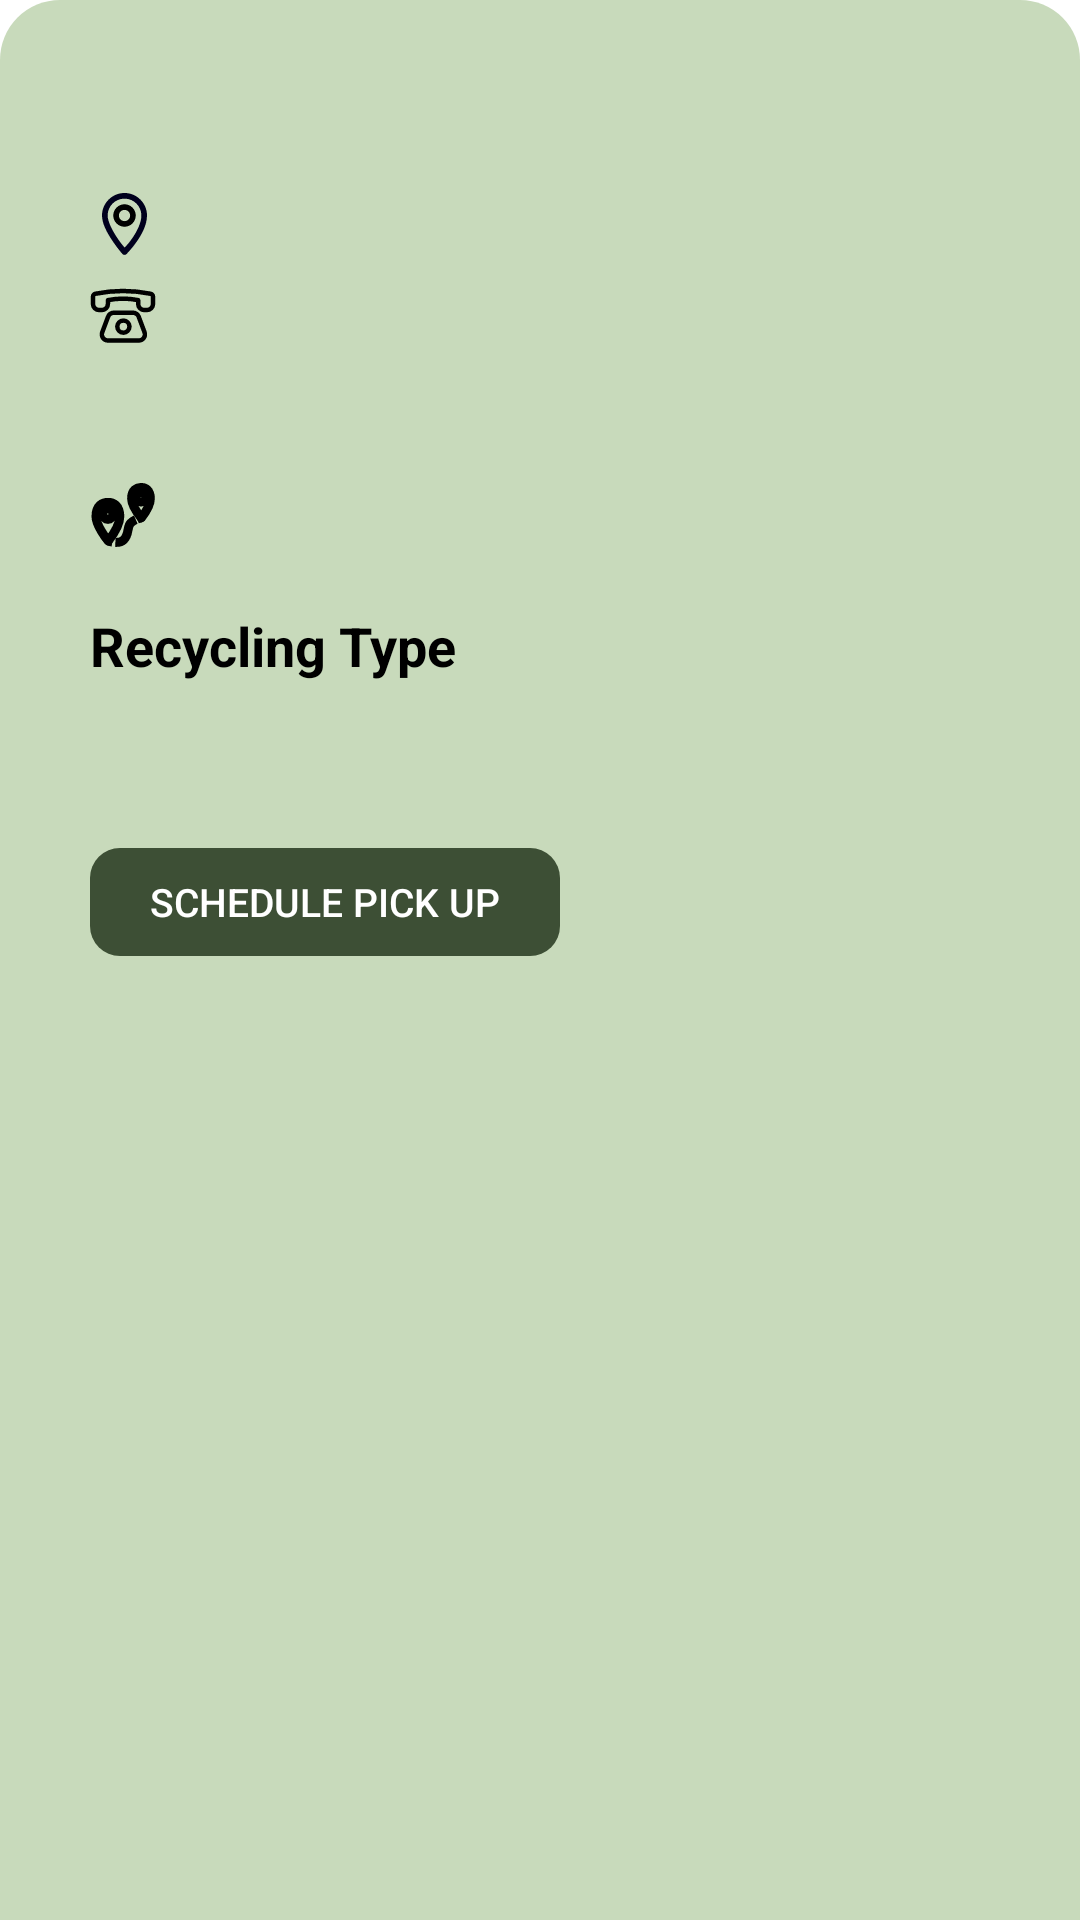

Named icons in this screenshot (1080 x 1920) and their bounding boxes, {"x1": x1, "y1": y1, "x2": x2, "y2": y2}:
distance: {"x1": 91, "y1": 483, "x2": 155, "y2": 547}
location: {"x1": 102, "y1": 193, "x2": 147, "y2": 255}
phone: {"x1": 90, "y1": 288, "x2": 156, "y2": 343}
